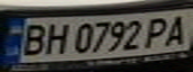0: (69, 20, 93, 54)
2: (121, 17, 148, 52)
7: (90, 19, 112, 54)
9: (106, 18, 130, 53)
A: (160, 11, 193, 47)
B: (12, 20, 51, 57)
H: (36, 20, 72, 56)
P: (139, 15, 175, 49)
